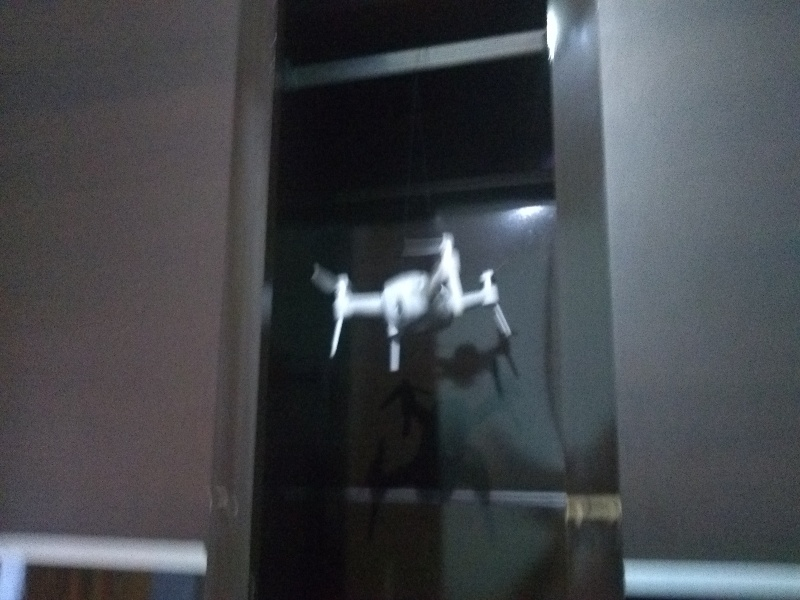drone: (303, 227, 525, 372)
